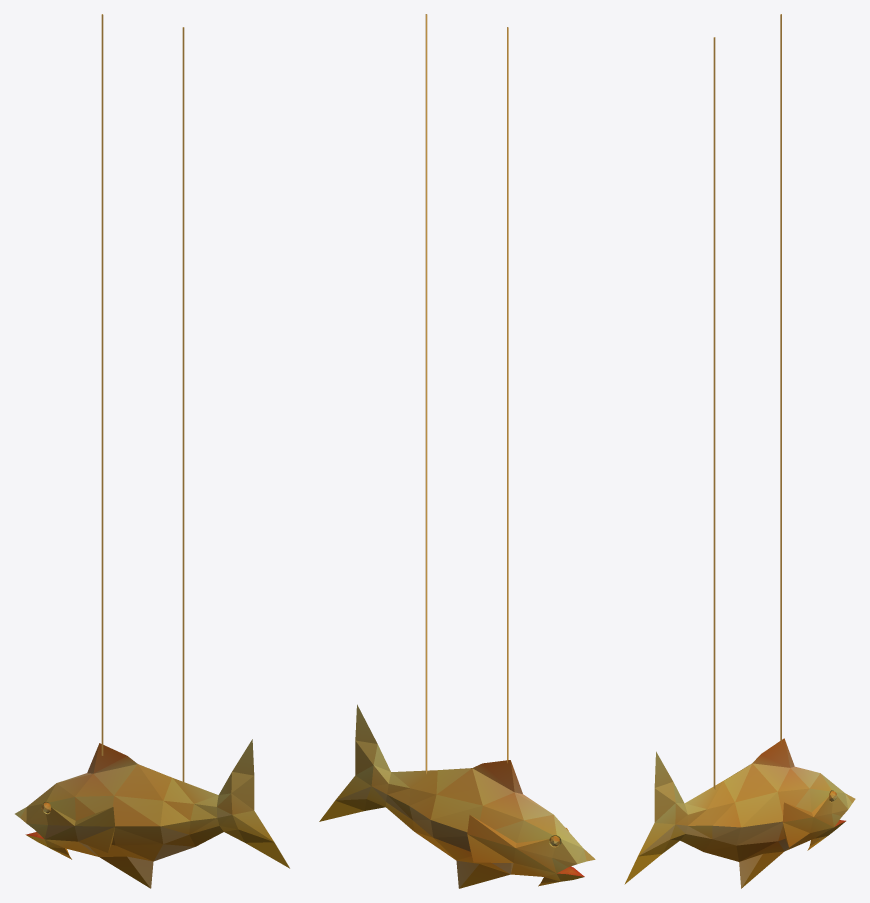
File: GoldFishLight_2.fbx
3 renders of one model, left to right at view 1: azimuth 30°, elevation 25°; view 2: azimuth 210°, elevation 25°; view 3: azimuth 270°, elevation 25°, orthographic.
Parts seen in each view (by area): view 1: Plane.020; view 2: Plane.020; view 3: Plane.020.
Part boxes in pixels (x1,y1,x2,y2): Plane.020: (15, 14, 289, 888); Plane.020: (319, 14, 595, 888); Plane.020: (624, 14, 855, 888).
Size of the model in its own units: 357 by 1853 by 451.
